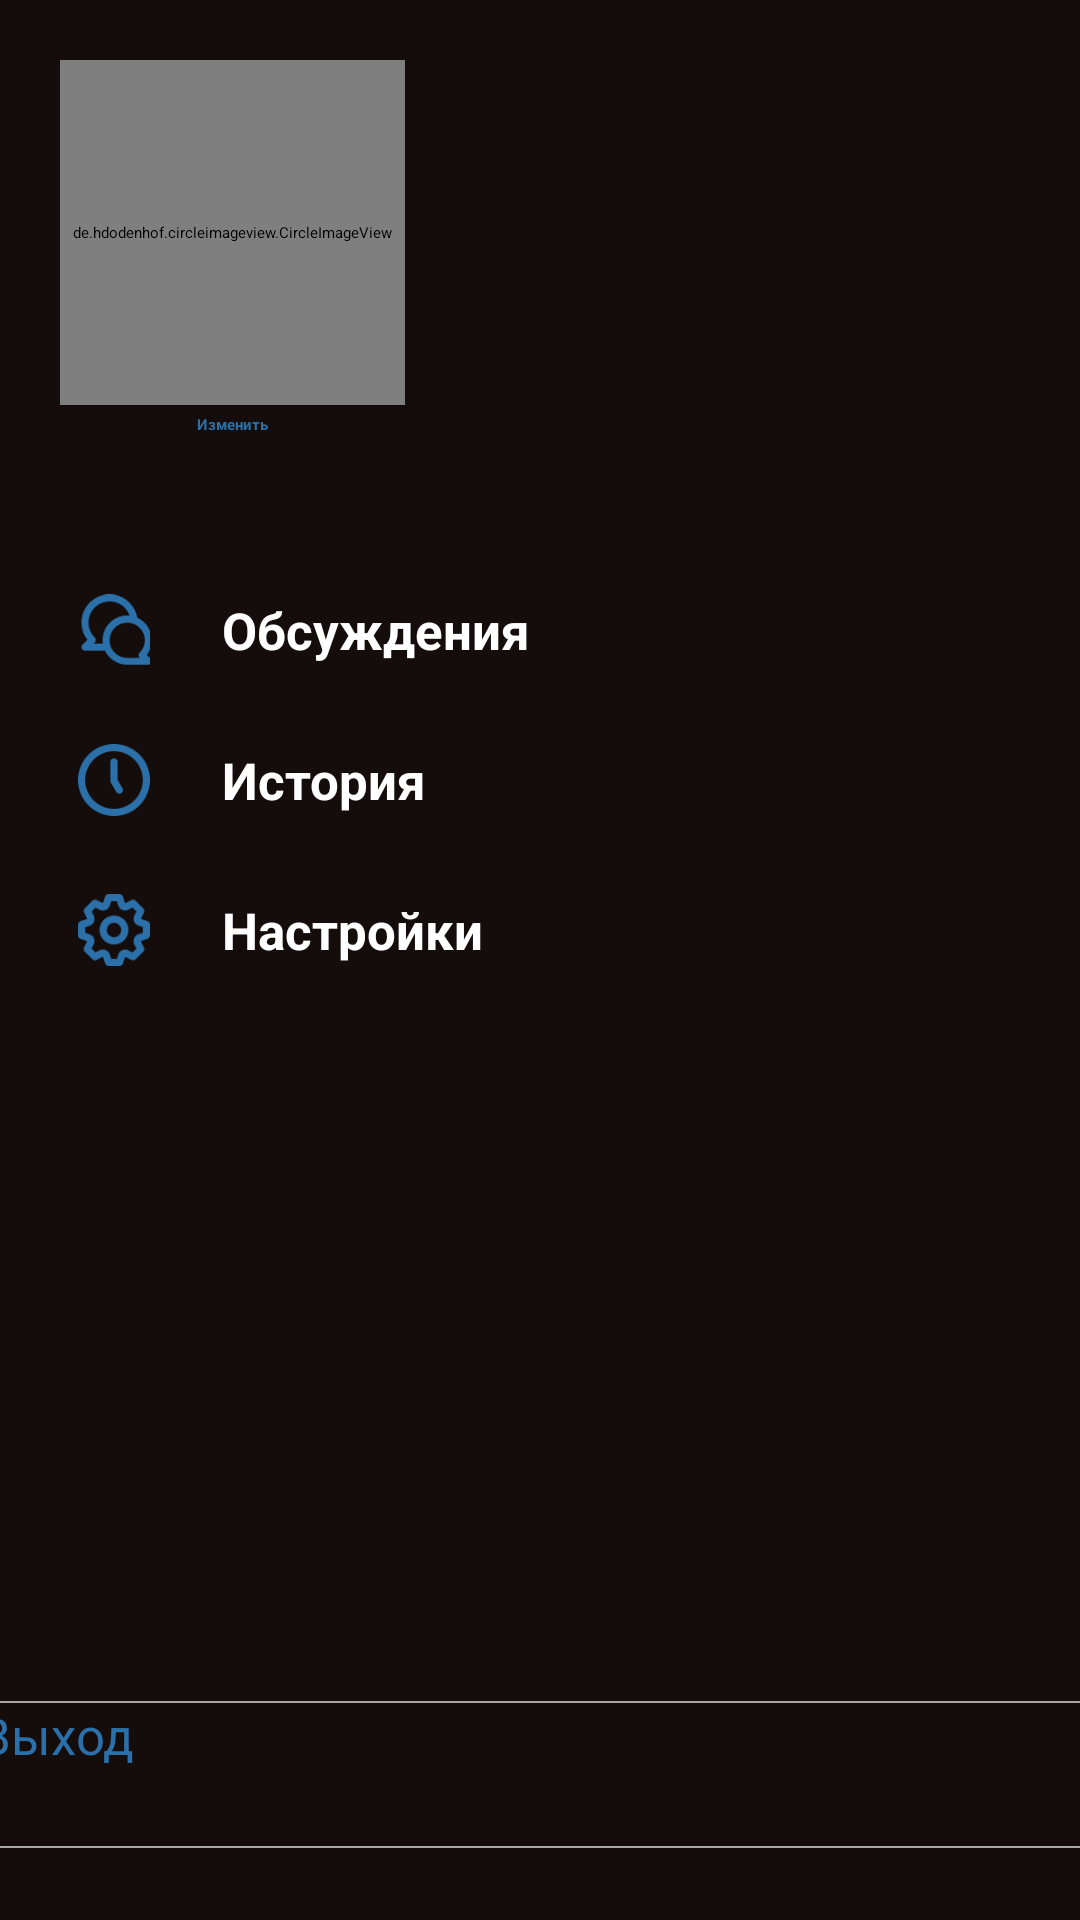

Icons on this 1080 x 1920 Android screen, each with its box as (x1, y1, x2, y2):
clock: (78, 744, 150, 816)
comments: (81, 594, 150, 665)
settings: (78, 894, 150, 966)
